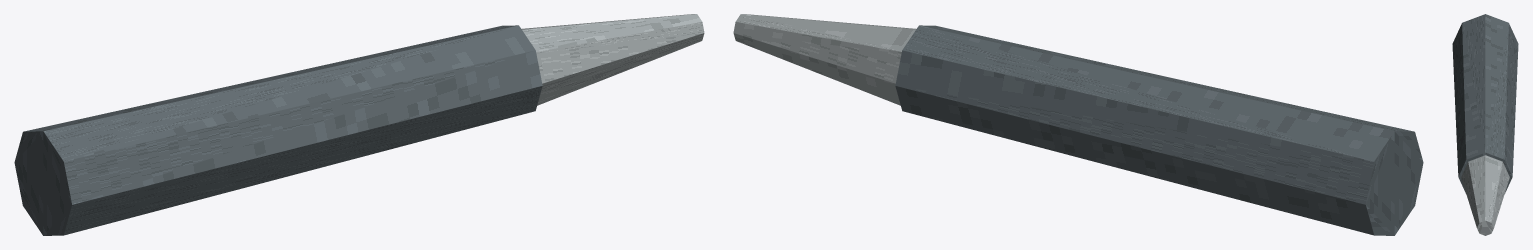
File: hotcut.glb
3 views of the same model, side by side, from view 1: azimuth 30°, elevation 25°; view 2: azimuth 150°, elevation 25°; view 3: azimuth 270°, elevation 25° (orthographic). The views are drawn at different scales.
Visible parts, largest first — view 1: block_hardened tool shaft, block_tapered working tip; view 2: block_hardened tool shaft, block_tapered working tip; view 3: block_hardened tool shaft, block_tapered working tip.
Boxes of the visible parts, x1=… form: block_hardened tool shaft: x1=14, y1=25, x2=542, y2=235; block_tapered working tip: x1=521, y1=14, x2=704, y2=105; block_hardened tool shaft: x1=895, y1=25, x2=1423, y2=235; block_tapered working tip: x1=733, y1=14, x2=916, y2=105; block_hardened tool shaft: x1=1452, y1=14, x2=1518, y2=193; block_tapered working tip: x1=1461, y1=155, x2=1509, y2=235.
Bounding box in the file's own units: 0.1516 × 0.0232 × 0.0232.
Materials: 1 (1 with a texture image).
